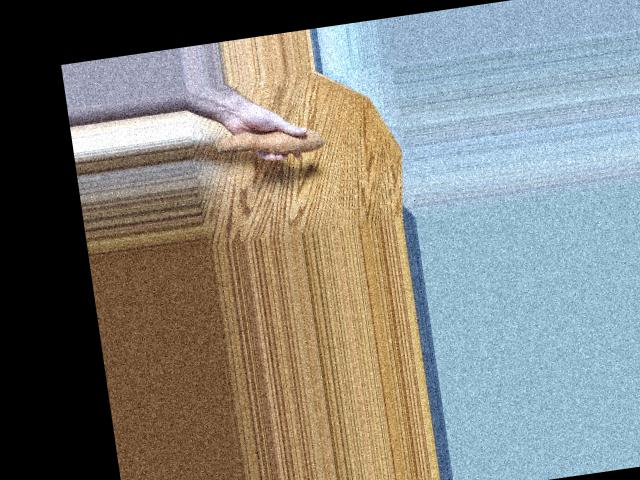sweet_potato: (211, 115, 331, 164)
